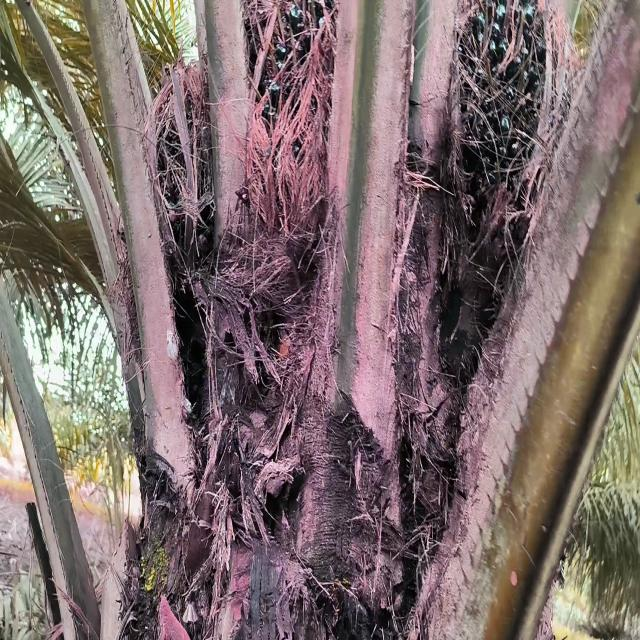palm-oil: (457, 0, 554, 216)
